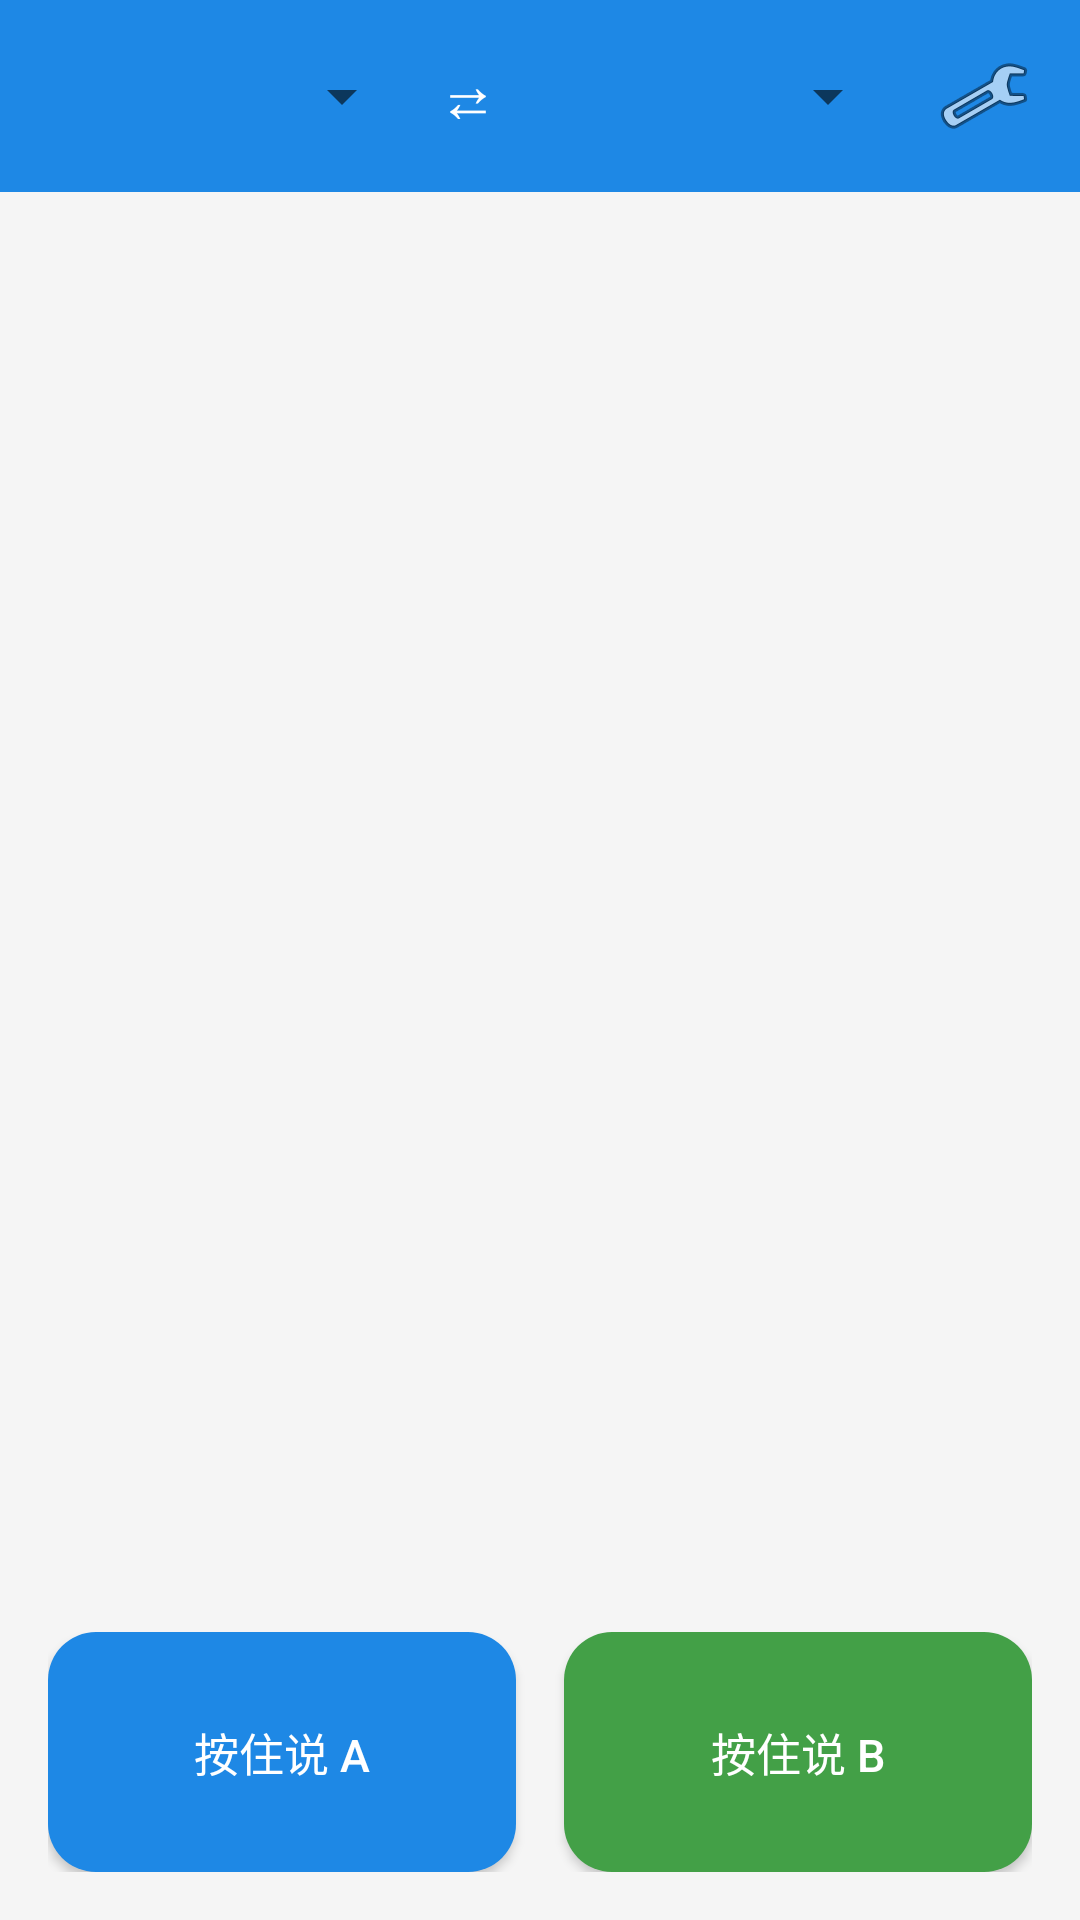

Icon bounding boxes for this 1080w x 1920h phone screenshot, format detection(x1, y1, x2, y2):
设置: detection(941, 63, 1027, 129)
